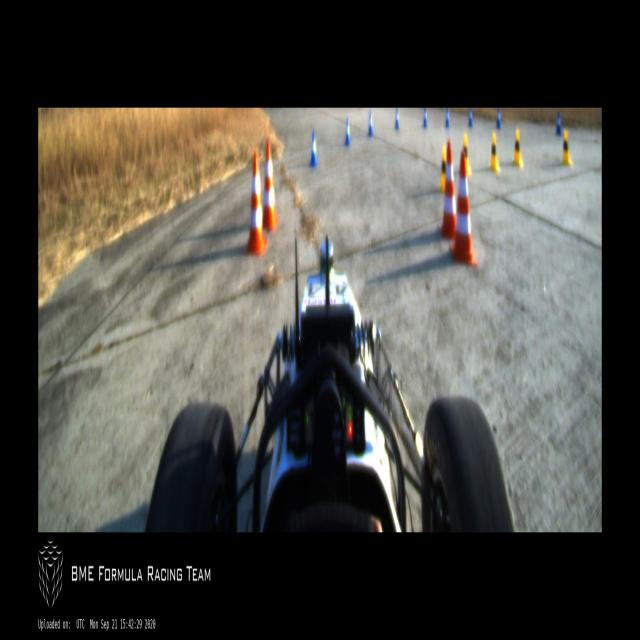blue_cone: (310, 130, 318, 164), (344, 118, 351, 146), (368, 111, 374, 137), (555, 112, 561, 136), (496, 108, 502, 129), (395, 108, 400, 129), (423, 108, 428, 128), (445, 108, 450, 128), (468, 108, 473, 128)
large_orange_cone: (450, 151, 478, 264), (245, 153, 268, 258), (438, 140, 457, 240), (262, 141, 279, 234)
yellow_cone: (488, 132, 500, 173), (512, 128, 522, 167), (463, 133, 472, 176), (561, 129, 571, 166), (439, 146, 446, 194)
